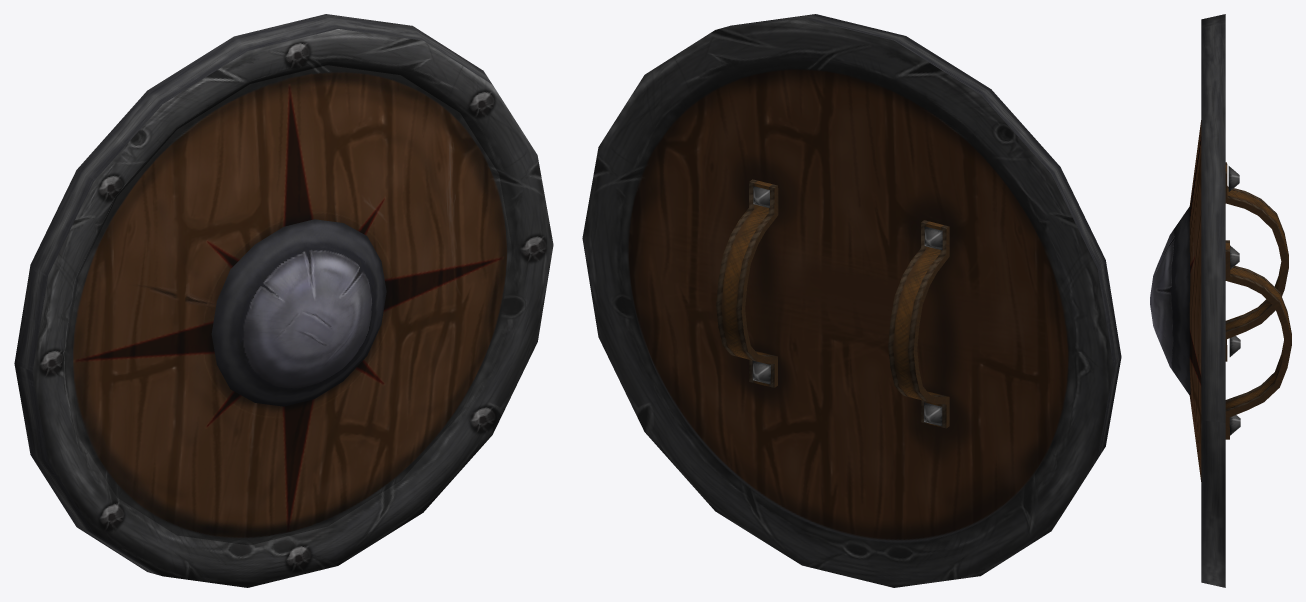
File: Escudo.FBX
3 views of the same model, side by side, from view 1: azimuth 30°, elevation 25°; view 2: azimuth 150°, elevation 25°; view 3: azimuth 270°, elevation 25° (orthographic). The views are drawn at different scales.
Parts seen in each view (by area): view 1: Escudo; view 2: Escudo; view 3: Escudo.
Boxes of the visible parts, bbox=[...] form: Escudo: bbox=[14, 14, 553, 587]; Escudo: bbox=[582, 14, 1121, 587]; Escudo: bbox=[1150, 14, 1291, 587].
Bounding box in the file's own units: 0.7411 × 0.7298 × 0.1824.
